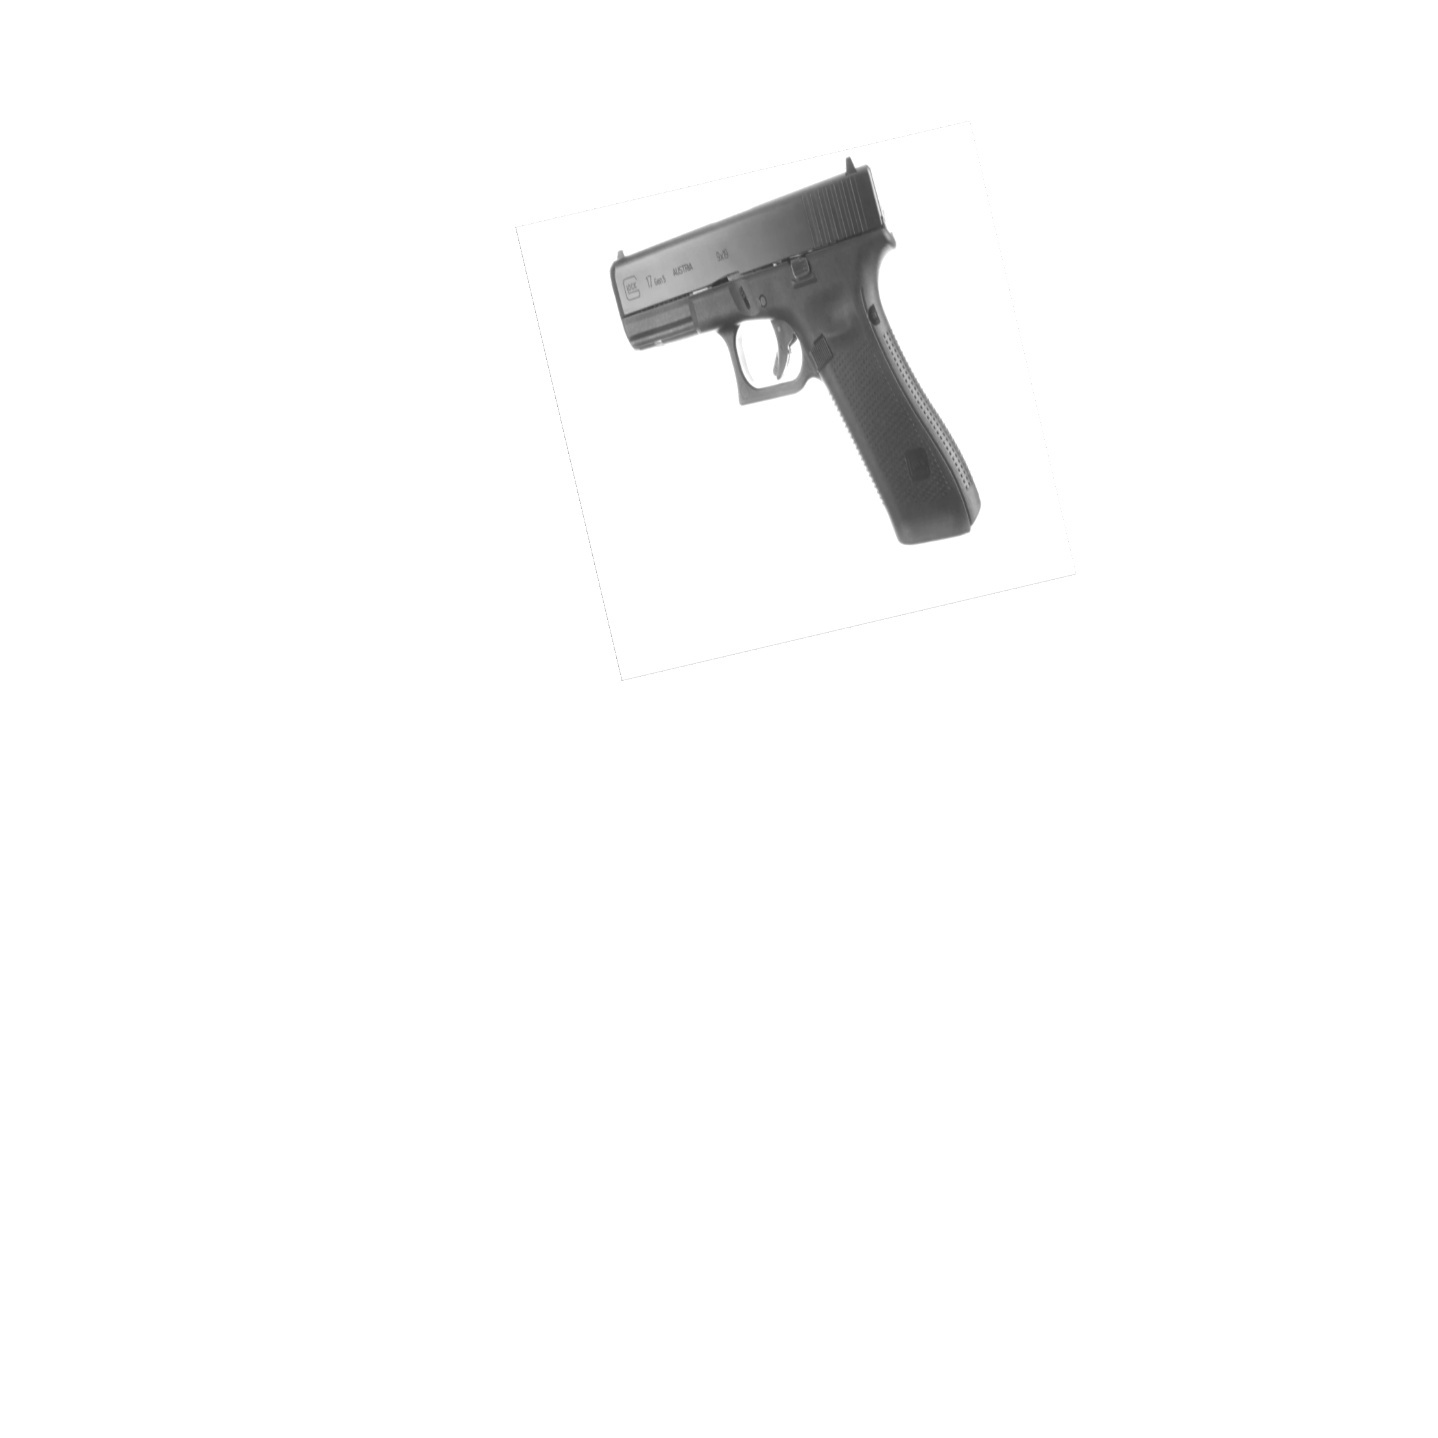gun: (604, 149, 988, 562)
